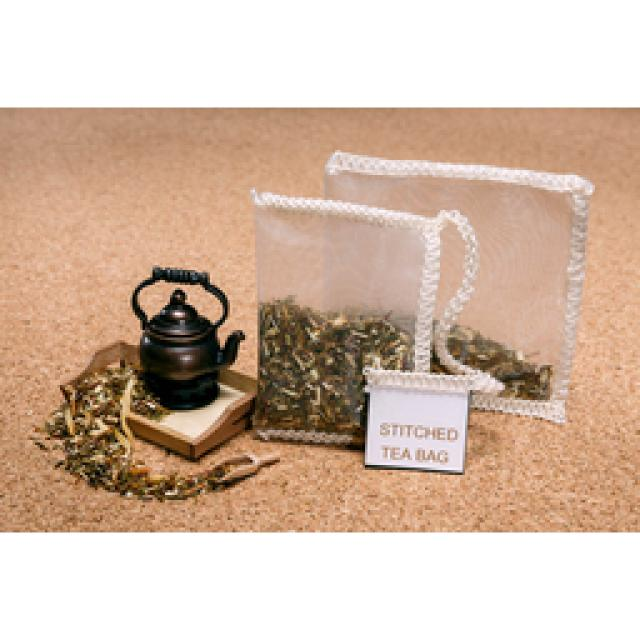tea-bags: (251, 151, 595, 472)
